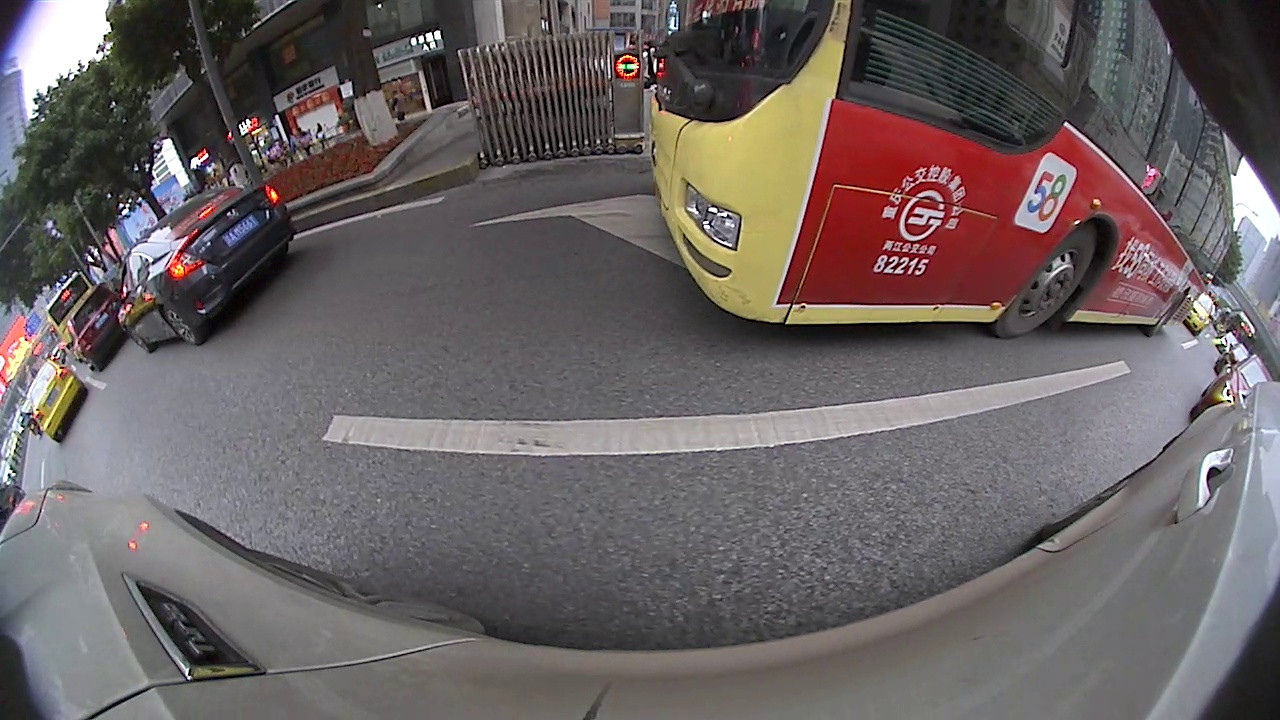bus: (636, 4, 1238, 342)
car: (116, 181, 296, 353), (67, 281, 131, 372), (25, 356, 86, 445)
front: (986, 222, 1100, 339), (123, 327, 157, 355)
rear: (153, 305, 213, 347), (1144, 290, 1190, 337)
